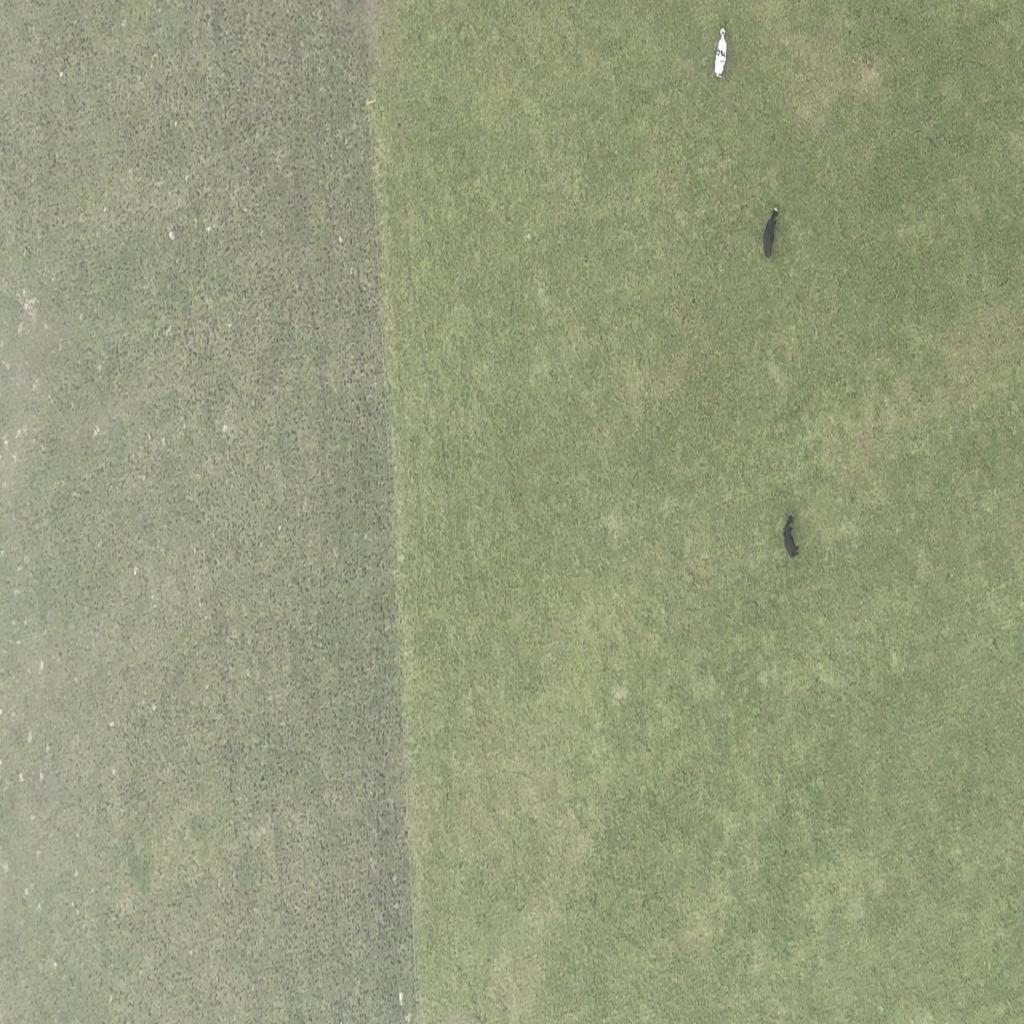cow: (758, 200, 780, 262), (714, 24, 730, 80), (784, 512, 802, 559)
